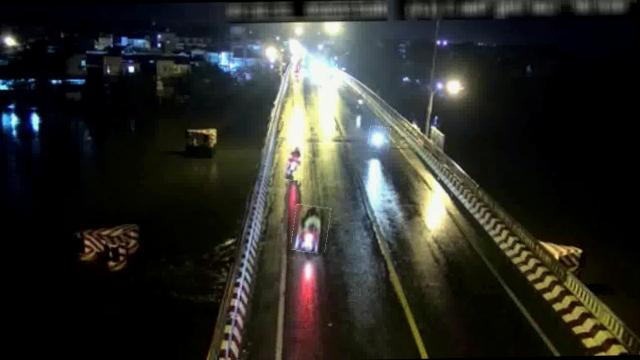Bike: (292, 204, 330, 252), (284, 145, 303, 180), (368, 127, 391, 152)
